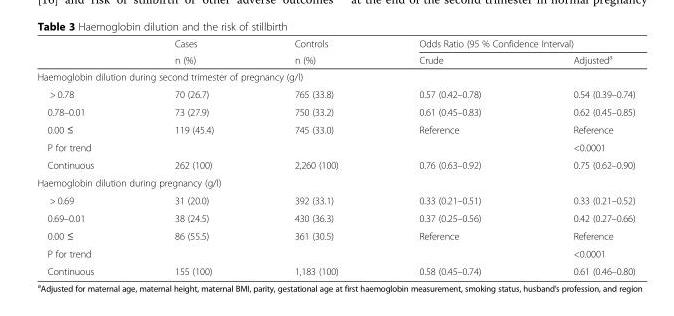table: (36, 37, 634, 276)
table column: (378, 37, 526, 276), (253, 37, 378, 276), (133, 37, 253, 276), (526, 37, 634, 276), (36, 37, 133, 276)
table column header: (36, 37, 634, 67)
table projected row header: (36, 67, 634, 85), (36, 173, 634, 191)
table row: (36, 67, 634, 85), (36, 102, 634, 120), (36, 120, 634, 138), (36, 155, 634, 173), (36, 173, 634, 191), (36, 191, 634, 209), (36, 226, 634, 244), (36, 244, 634, 262), (36, 50, 634, 67), (36, 85, 634, 102), (36, 138, 634, 155), (36, 209, 634, 226), (36, 262, 634, 276), (36, 37, 634, 50)
table spanning cell: (253, 37, 378, 67), (133, 37, 253, 67), (378, 37, 634, 50)
